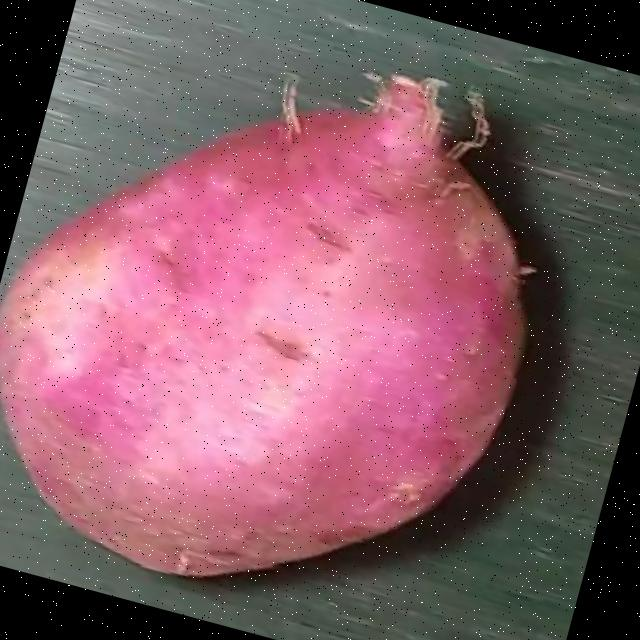Sweet Potato: (0, 73, 524, 576)
